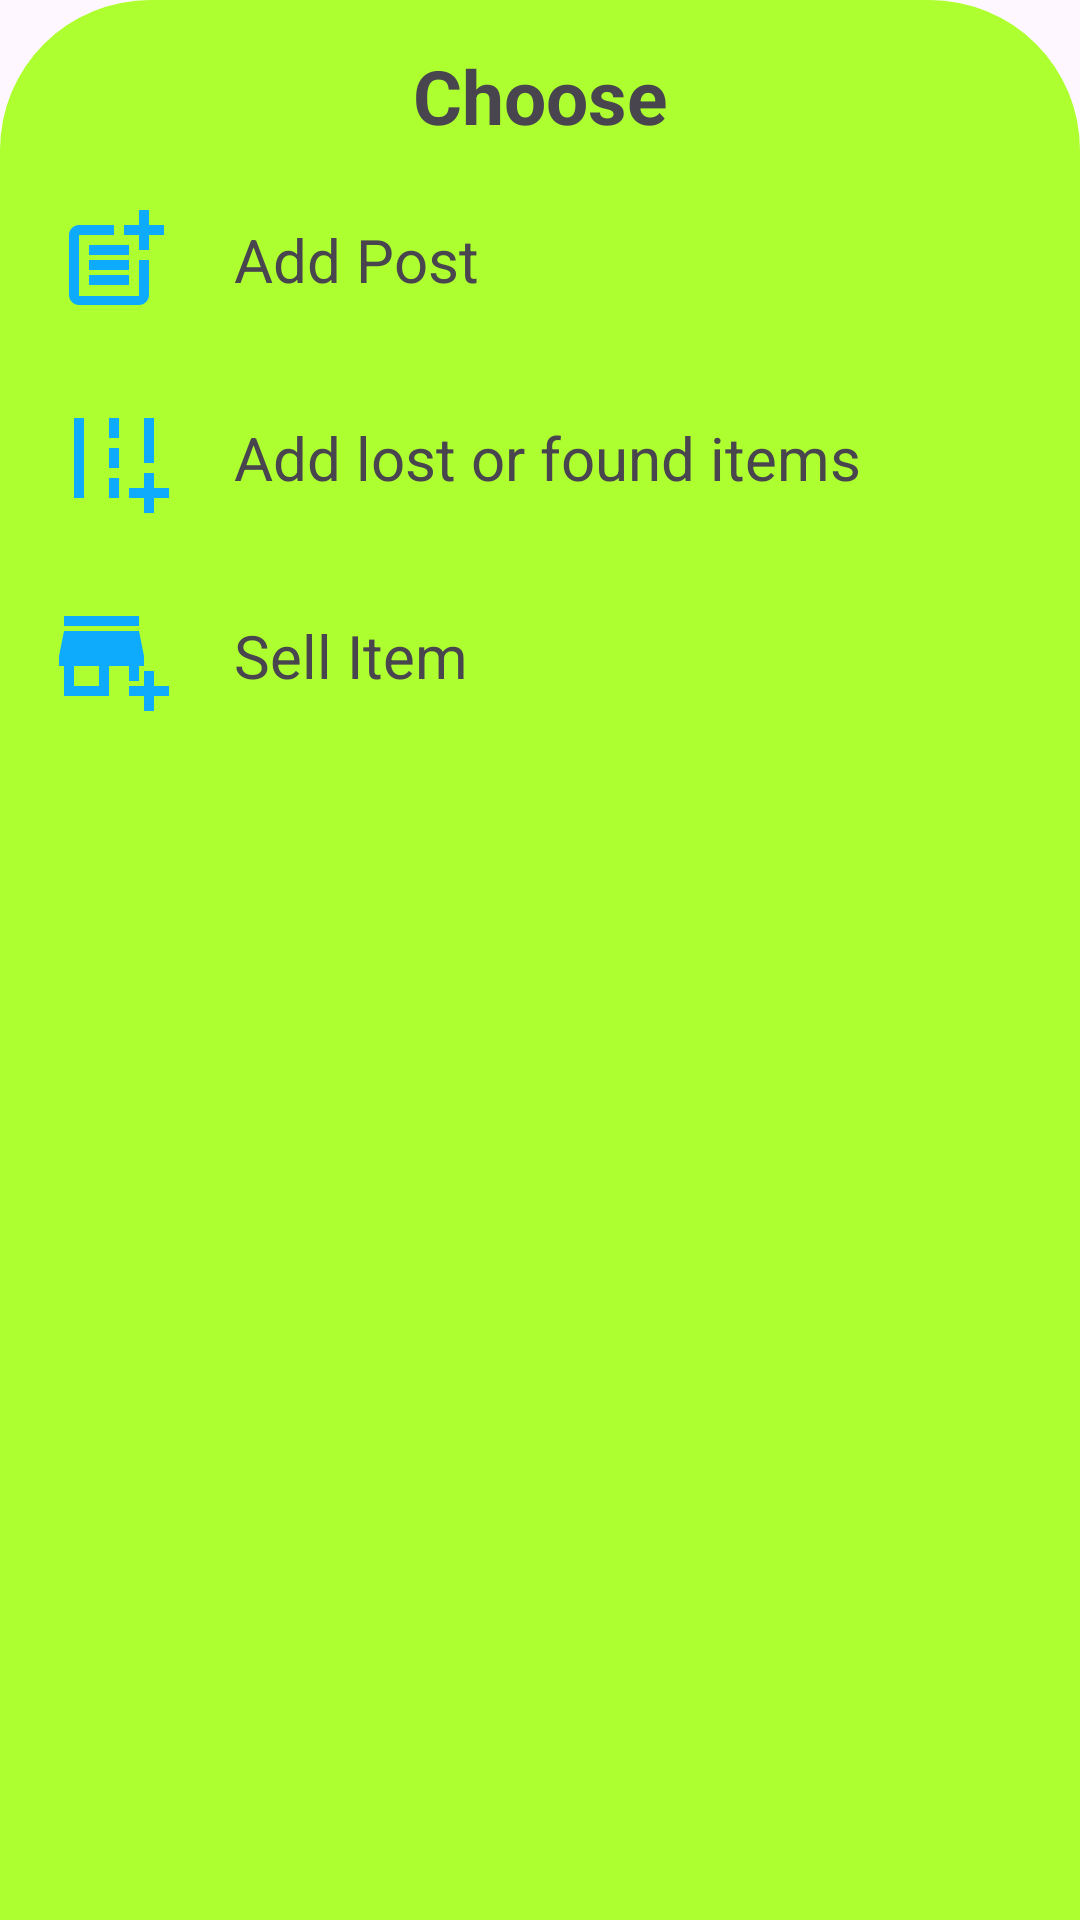

Icons on this 1080x1920 Android screen, each with the point to tap as (x,y):
add marketplace: (114,663)
